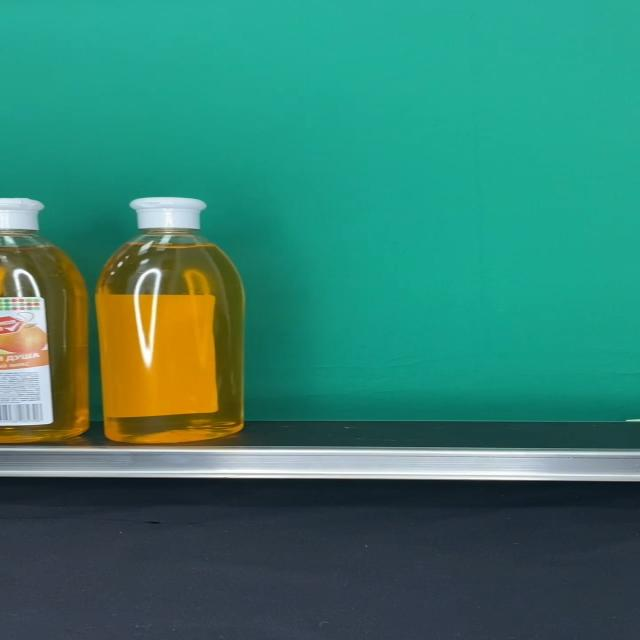Bottle: (96, 197, 246, 444)
Cap: (129, 197, 208, 229)
